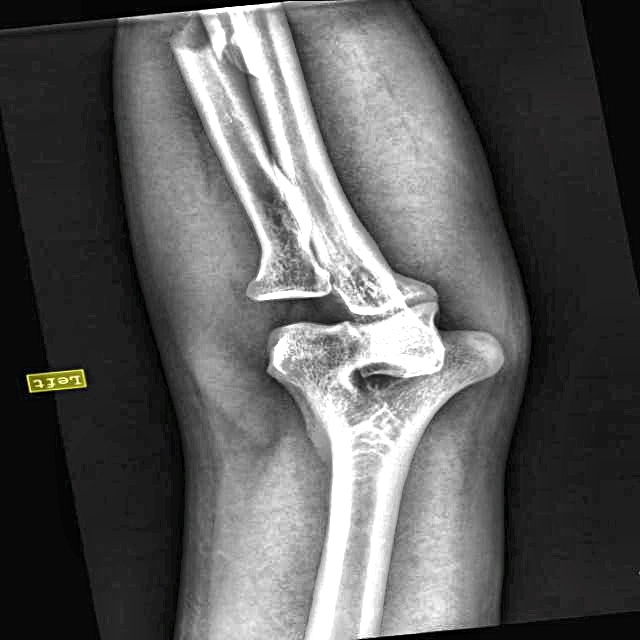Spiral: (160, 7, 295, 95)
